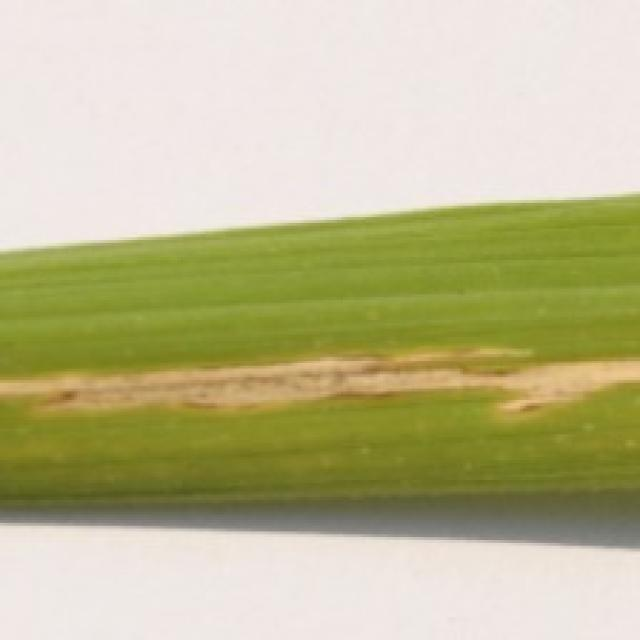Rice___Bacterial_Leaf_Blight: (0, 196, 637, 513)
